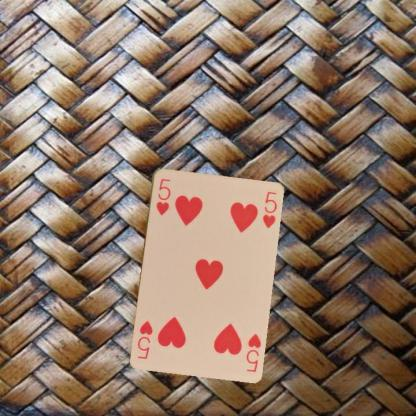5h: (244, 330, 262, 373), (153, 176, 172, 216)
